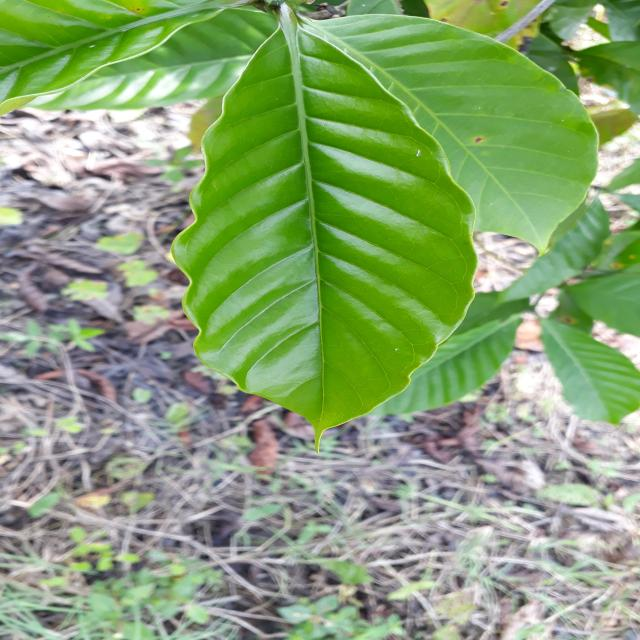Sanas: (185, 5, 504, 433)
